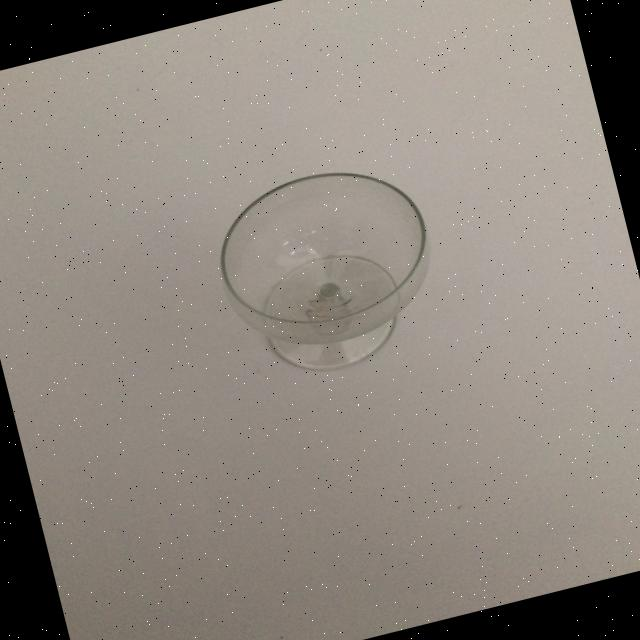glass: (202, 150, 454, 390)
